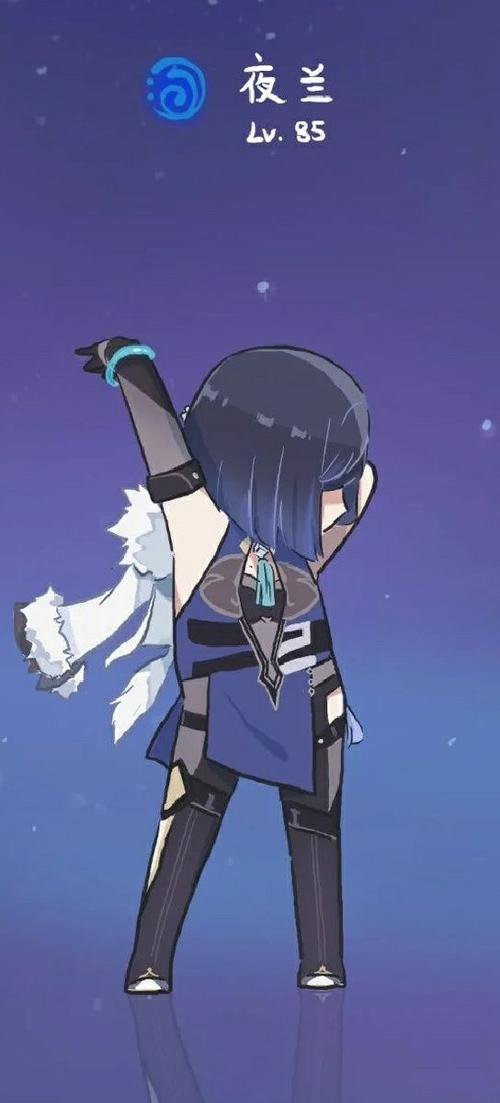夜兰: (74, 334, 381, 995)
